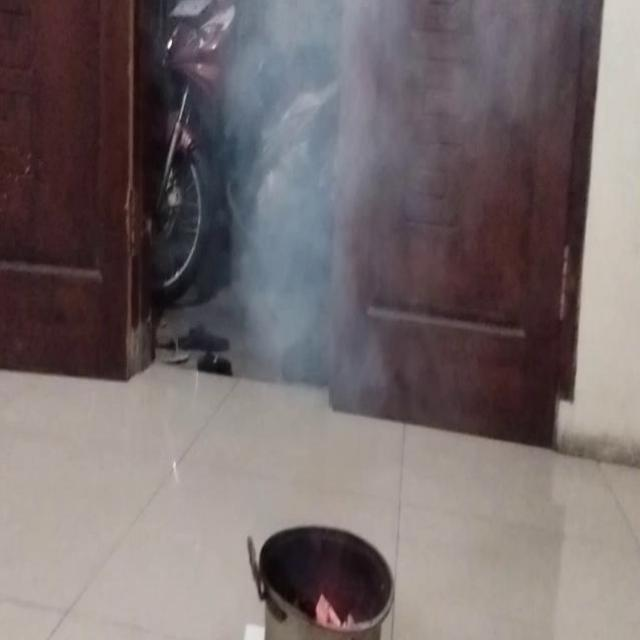fire: (205, 0, 472, 411)
